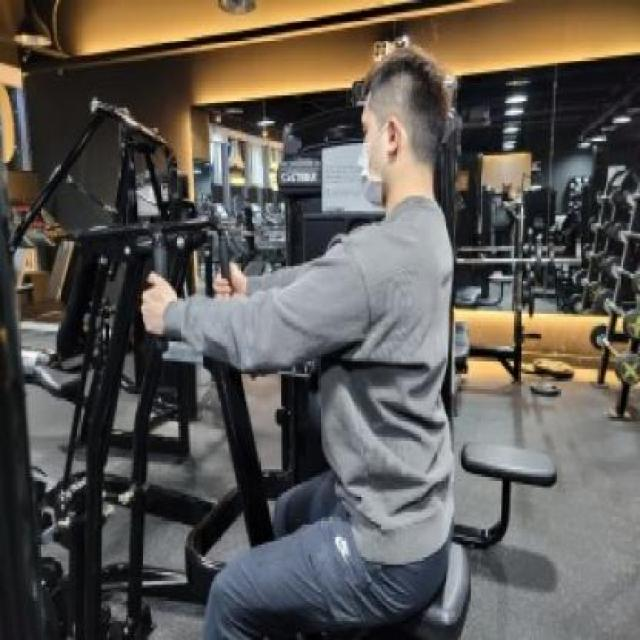Seated Cable Rows: (6, 54, 488, 640)
